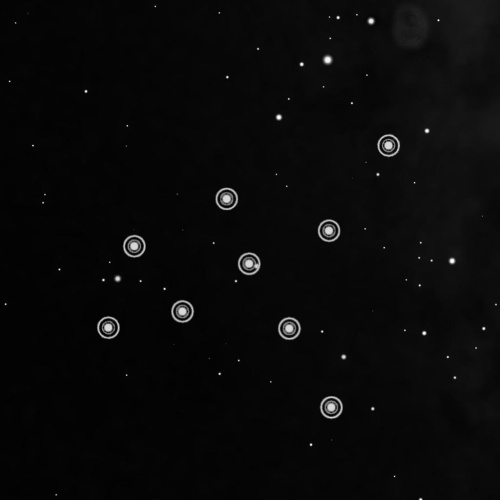cygnus: (92, 127, 405, 426)
